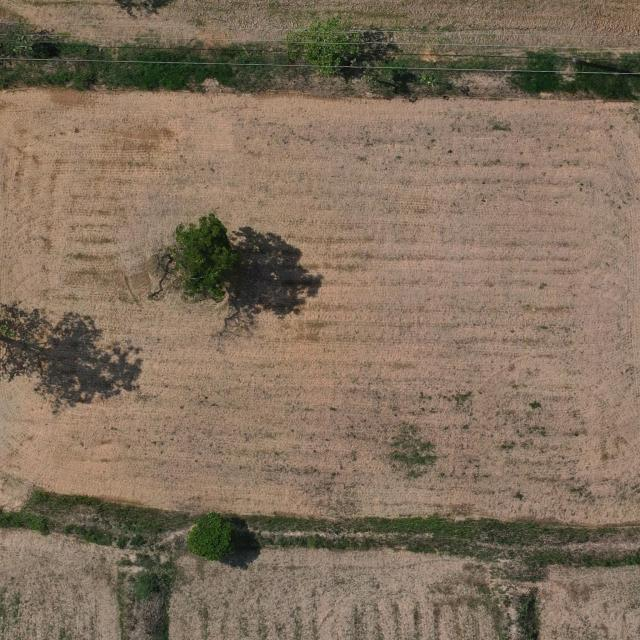Tree: (165, 212, 240, 302), (284, 13, 363, 74), (186, 511, 234, 561)
